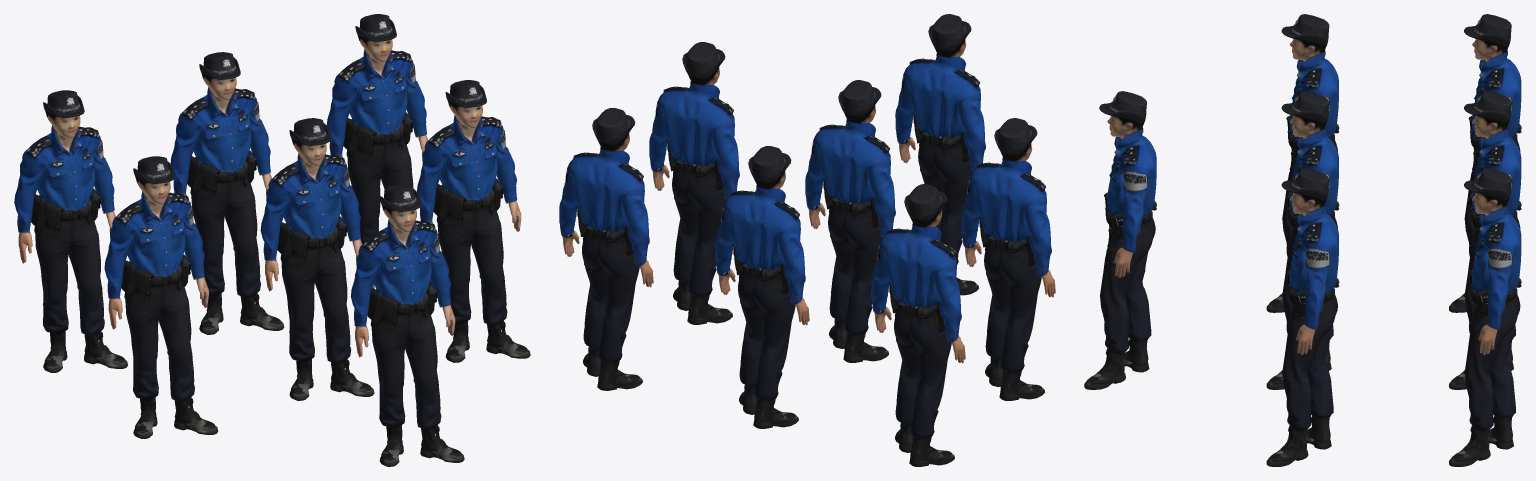
File: parade_china_idle.glb
3 renders of one model, left to right at view 1: azimuth 30°, elevation 25°; view 2: azimuth 150°, elevation 25°; view 3: azimuth 270°, elevation 25°, orthographic.
Visible parts, largest first — view 1: tripo_node_e47f3cb7-5733-46bb-8eb3-97cf68cdc512, tripo_node_e47f3cb7-5733-46bb-8eb3-97cf68cdc512.003, tripo_node_e47f3cb7-5733-46bb-8eb3-97cf68cdc512.001, tripo_node_e47f3cb7-5733-46bb-8eb3-97cf68cdc512.006, tripo_node_e47f3cb7-5733-46bb-8eb3-97cf68cdc512.002, tripo_node_e47f3cb7-5733-46bb-8eb3-97cf68cdc512.004, tripo_node_e47f3cb7-5733-46bb-8eb3-97cf68cdc512.005; view 2: tripo_node_e47f3cb7-5733-46bb-8eb3-97cf68cdc512.003, tripo_node_e47f3cb7-5733-46bb-8eb3-97cf68cdc512.004, tripo_node_e47f3cb7-5733-46bb-8eb3-97cf68cdc512.006, tripo_node_e47f3cb7-5733-46bb-8eb3-97cf68cdc512.005, tripo_node_e47f3cb7-5733-46bb-8eb3-97cf68cdc512.001, tripo_node_e47f3cb7-5733-46bb-8eb3-97cf68cdc512.002, tripo_node_e47f3cb7-5733-46bb-8eb3-97cf68cdc512; view 3: tripo_node_e47f3cb7-5733-46bb-8eb3-97cf68cdc512, tripo_node_e47f3cb7-5733-46bb-8eb3-97cf68cdc512.005, tripo_node_e47f3cb7-5733-46bb-8eb3-97cf68cdc512.002, tripo_node_e47f3cb7-5733-46bb-8eb3-97cf68cdc512.004, tripo_node_e47f3cb7-5733-46bb-8eb3-97cf68cdc512.001, tripo_node_e47f3cb7-5733-46bb-8eb3-97cf68cdc512.006, tripo_node_e47f3cb7-5733-46bb-8eb3-97cf68cdc512.003.
Boxes of the visible parts, <box> form: tripo_node_e47f3cb7-5733-46bb-8eb3-97cf68cdc512: <box>350,184,464,466</box>; tripo_node_e47f3cb7-5733-46bb-8eb3-97cf68cdc512.003: <box>104,156,218,438</box>; tripo_node_e47f3cb7-5733-46bb-8eb3-97cf68cdc512.001: <box>260,118,374,400</box>; tripo_node_e47f3cb7-5733-46bb-8eb3-97cf68cdc512.006: <box>14,90,127,372</box>; tripo_node_e47f3cb7-5733-46bb-8eb3-97cf68cdc512.002: <box>417,80,530,362</box>; tripo_node_e47f3cb7-5733-46bb-8eb3-97cf68cdc512.004: <box>170,52,284,334</box>; tripo_node_e47f3cb7-5733-46bb-8eb3-97cf68cdc512.005: <box>326,14,431,289</box>; tripo_node_e47f3cb7-5733-46bb-8eb3-97cf68cdc512.003: <box>961,118,1055,400</box>; tripo_node_e47f3cb7-5733-46bb-8eb3-97cf68cdc512.004: <box>715,146,809,428</box>; tripo_node_e47f3cb7-5733-46bb-8eb3-97cf68cdc512.006: <box>871,184,965,466</box>; tripo_node_e47f3cb7-5733-46bb-8eb3-97cf68cdc512.005: <box>559,108,653,390</box>; tripo_node_e47f3cb7-5733-46bb-8eb3-97cf68cdc512.001: <box>805,80,895,362</box>; tripo_node_e47f3cb7-5733-46bb-8eb3-97cf68cdc512.002: <box>649,42,739,324</box>; tripo_node_e47f3cb7-5733-46bb-8eb3-97cf68cdc512: <box>895,14,985,295</box>; tripo_node_e47f3cb7-5733-46bb-8eb3-97cf68cdc512: <box>1084,91,1156,389</box>; tripo_node_e47f3cb7-5733-46bb-8eb3-97cf68cdc512.005: <box>1449,168,1521,466</box>; tripo_node_e47f3cb7-5733-46bb-8eb3-97cf68cdc512.002: <box>1266,168,1339,466</box>; tripo_node_e47f3cb7-5733-46bb-8eb3-97cf68cdc512.004: <box>1449,91,1521,389</box>; tripo_node_e47f3cb7-5733-46bb-8eb3-97cf68cdc512.001: <box>1266,91,1339,389</box>; tripo_node_e47f3cb7-5733-46bb-8eb3-97cf68cdc512.006: <box>1449,14,1521,312</box>; tripo_node_e47f3cb7-5733-46bb-8eb3-97cf68cdc512.003: <box>1266,14,1339,312</box>.
Size of the model in its own units: 1.56 by 0.998 by 1.44.
1 material, 1 textured.
